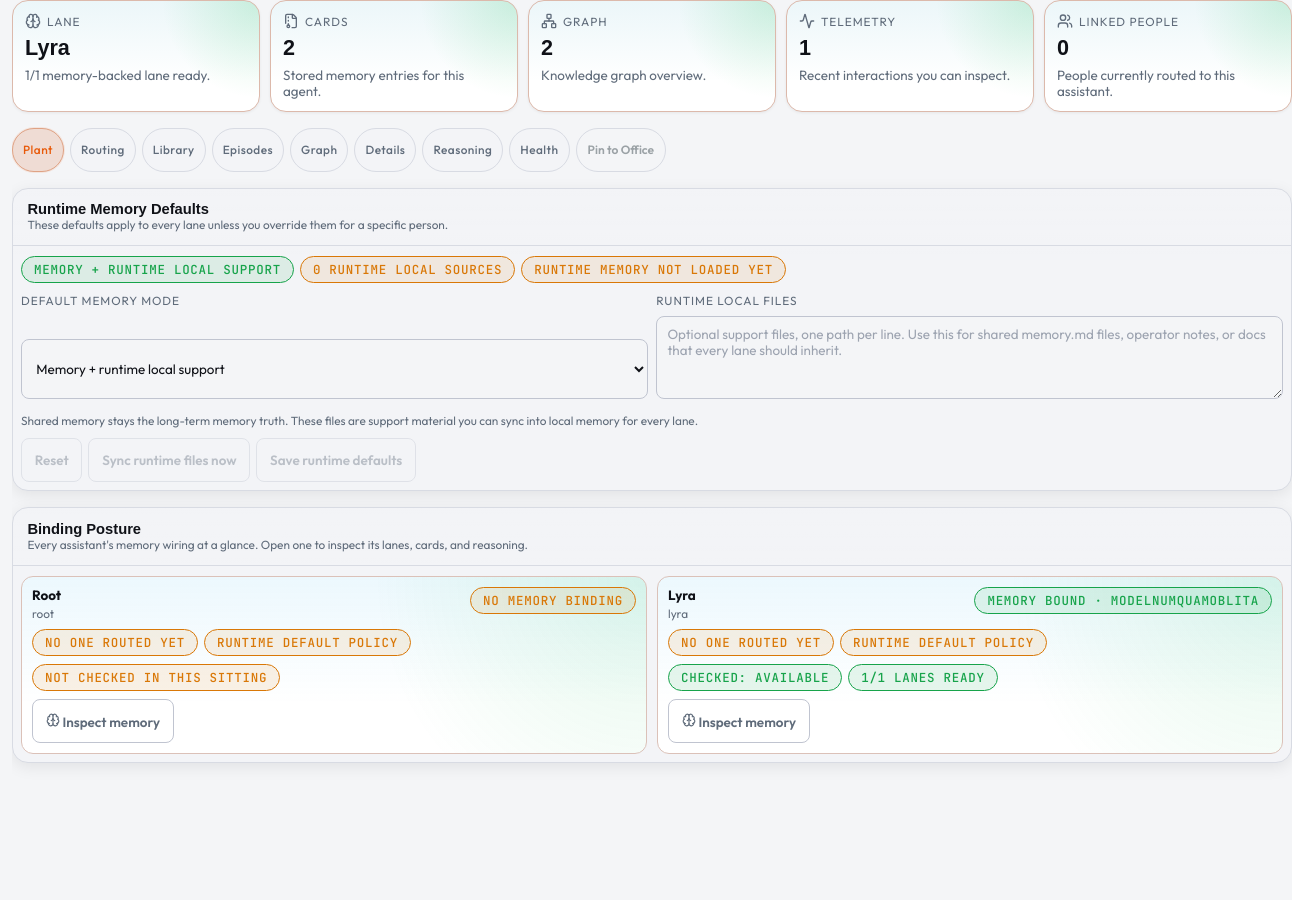
Test: MemoryPage surface gating and honest partial states › shows the routing snapshot error when lane routing cannot load
Click the button "Routing": (103, 150) [70, 128, 136, 172]
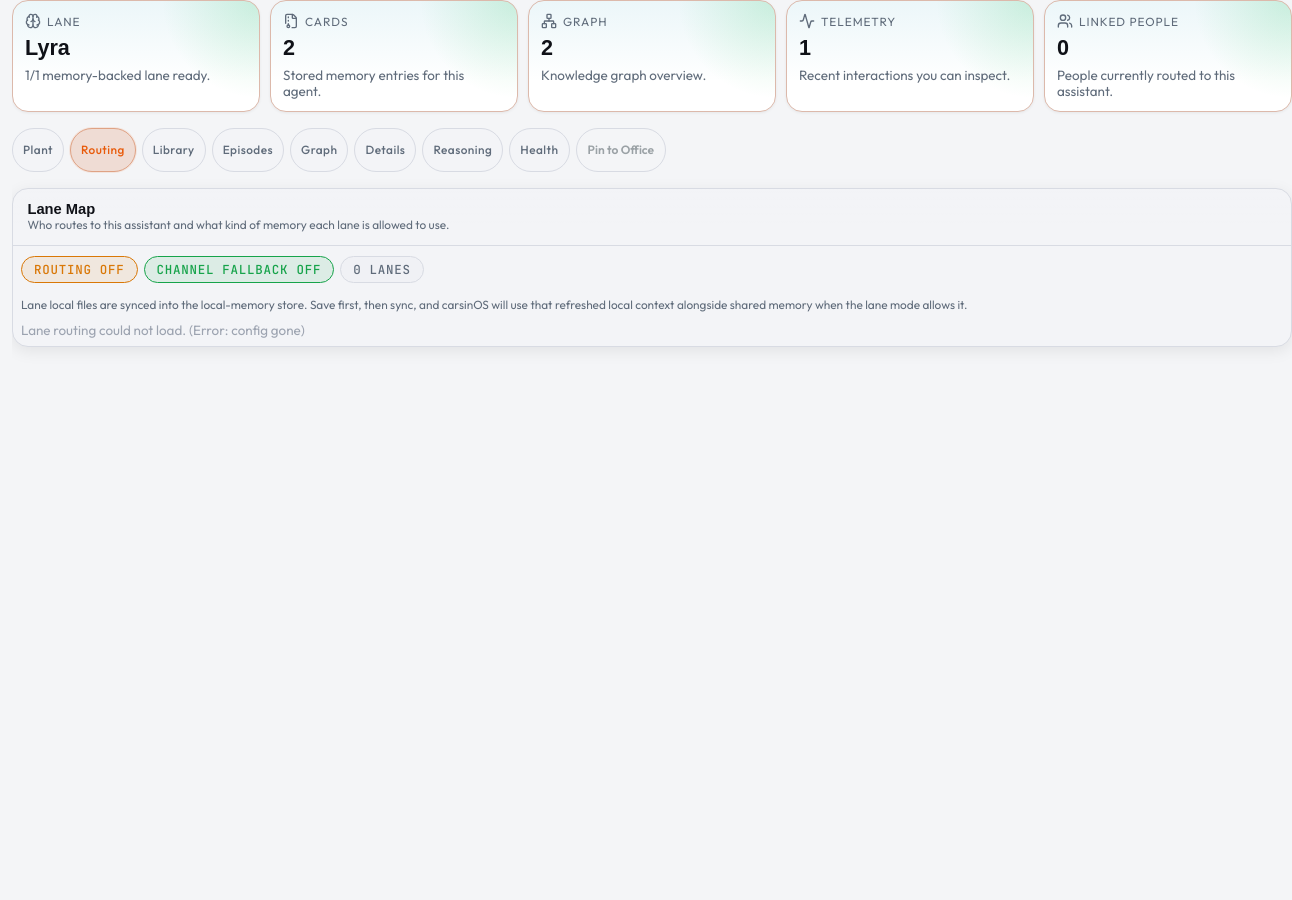
Expected: the text "Lane routing could not load." is shown, [21, 322, 305, 338]
Expected: the text "config gone" is shown, [21, 322, 305, 338]
